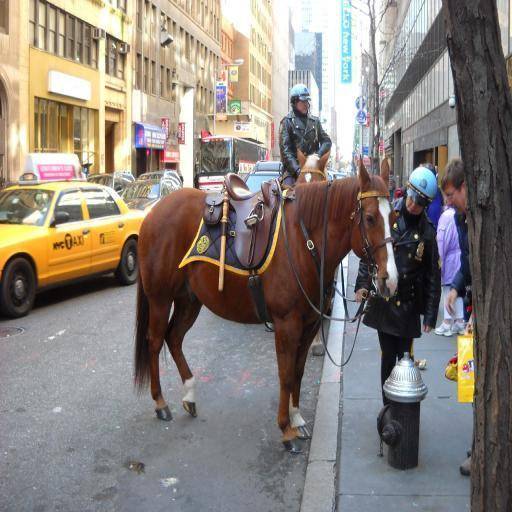horse: (132, 154, 401, 454), (293, 148, 332, 355)
